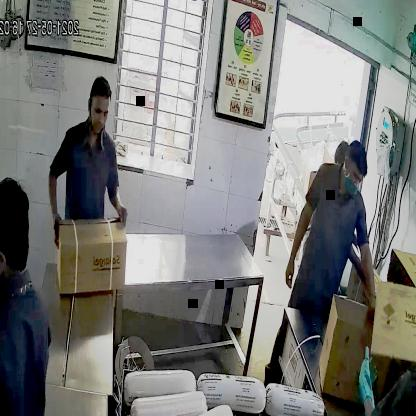no_goggles: (86, 100, 114, 123)
